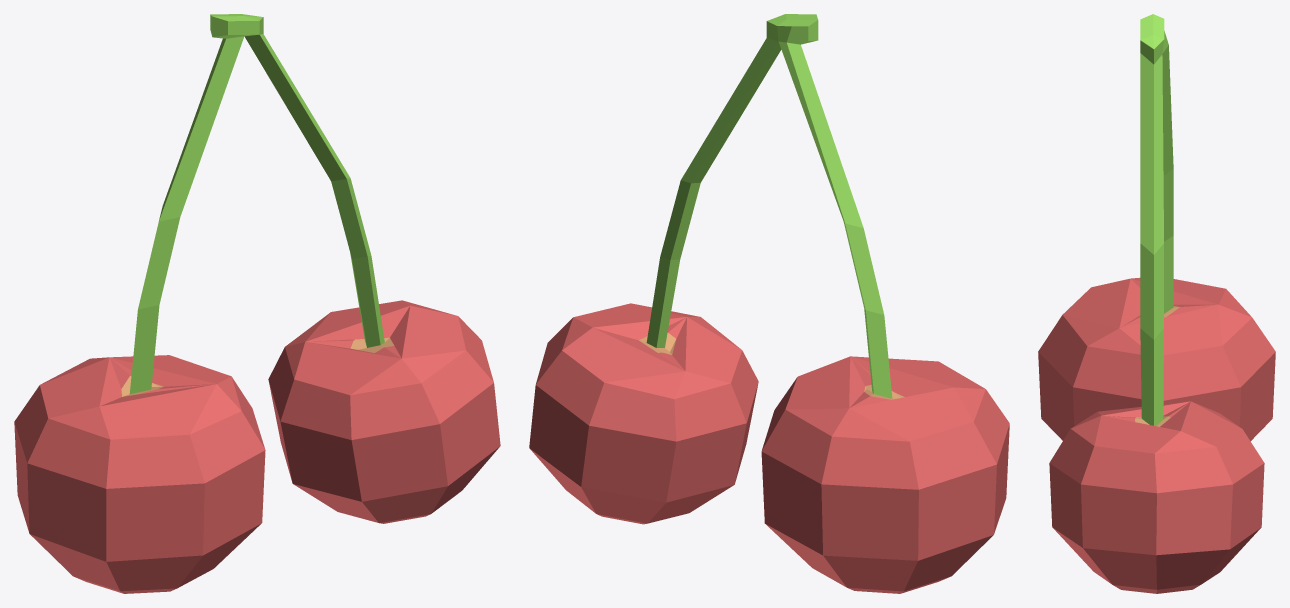
Rendered from Item.Cherries.fbx.
The picture shows the model from 3 angles, left to right: view 1: azimuth 30°, elevation 25°; view 2: azimuth 150°, elevation 25°; view 3: azimuth 270°, elevation 25°; orthographic projection. The views are drawn at different scales.
Visible parts, largest first — view 1: Cylinder.001; view 2: Cylinder.001; view 3: Cylinder.001.
Boxes of the visible parts, x1,y1,x2,y2 form: Cylinder.001: (14,14,500,593); Cylinder.001: (529,14,1009,593); Cylinder.001: (1038,14,1275,593).
Size of the model in its own units: 551 by 613 by 269.
